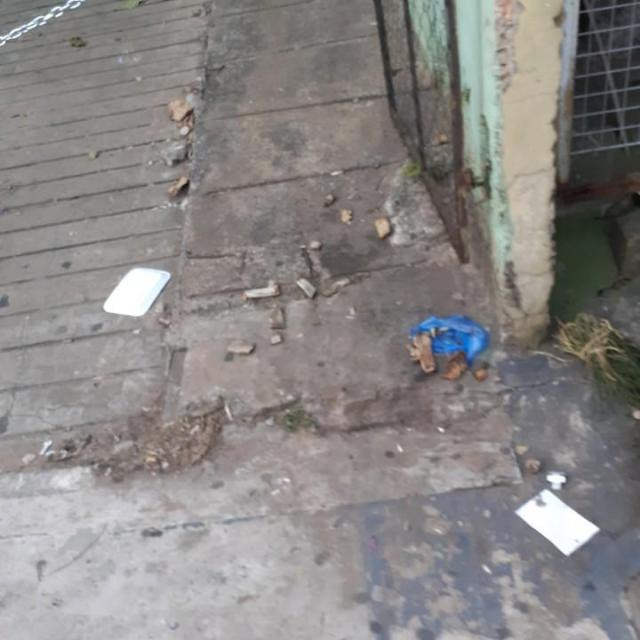litter: (76, 231, 621, 580)
